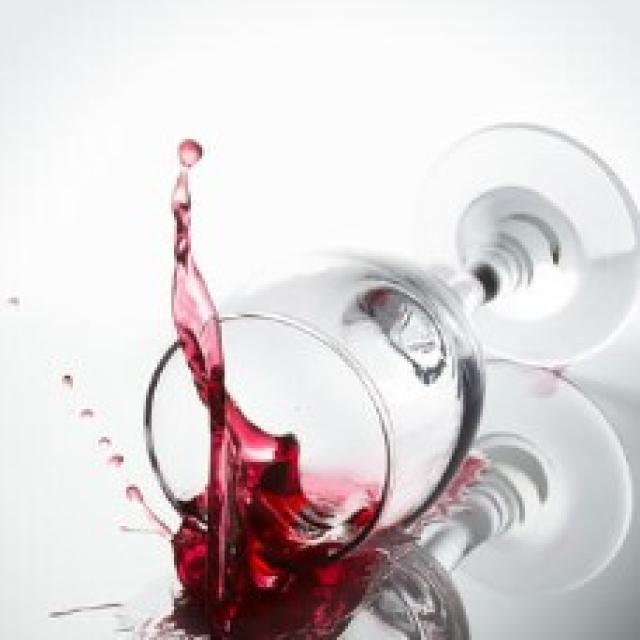electronic: (139, 108, 640, 571)
